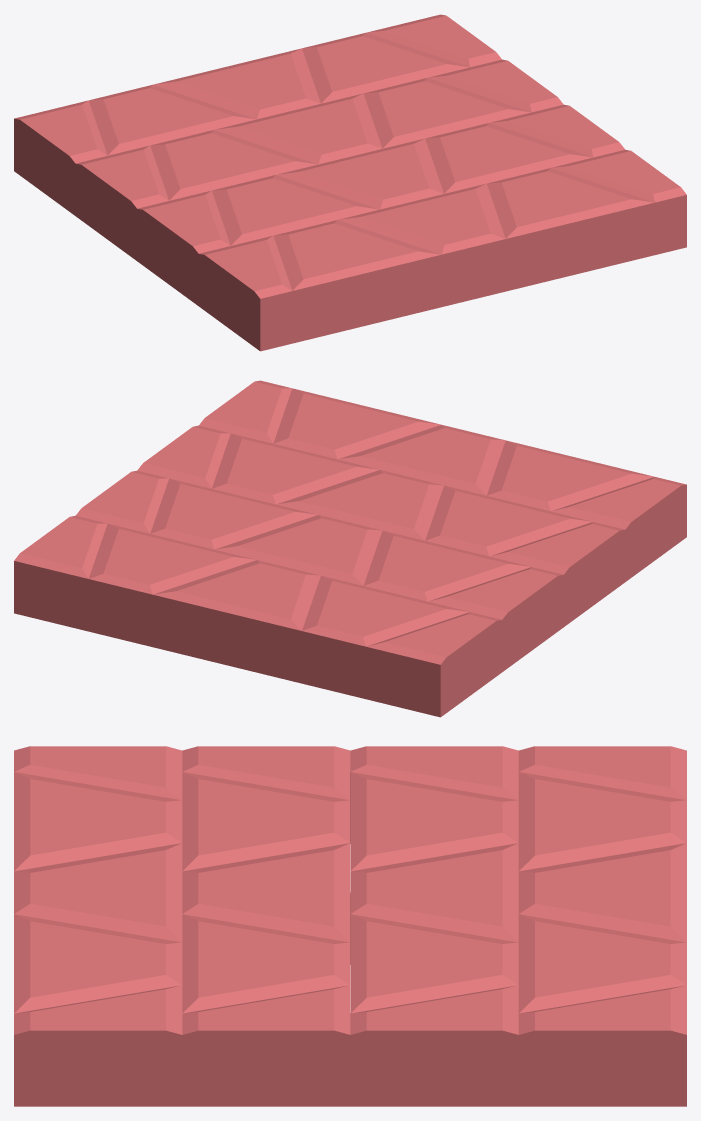
File: 25-AncientFloor.fbx
3 renders of one model, top to bottom at view 1: azimuth 30°, elevation 25°; view 2: azimuth 150°, elevation 25°; view 3: azimuth 270°, elevation 25°, orthographic. The views are drawn at different scales.
Parts seen in each view (by area): view 1: AncientFloor; view 2: AncientFloor; view 3: AncientFloor.
Boxes of the visible parts, x1=… form: AncientFloor: x1=14, y1=14, x2=686, y2=351; AncientFloor: x1=14, y1=380, x2=686, y2=717; AncientFloor: x1=14, y1=746, x2=686, y2=1106.
Size of the model in its own units: 400 by 50 by 400.
